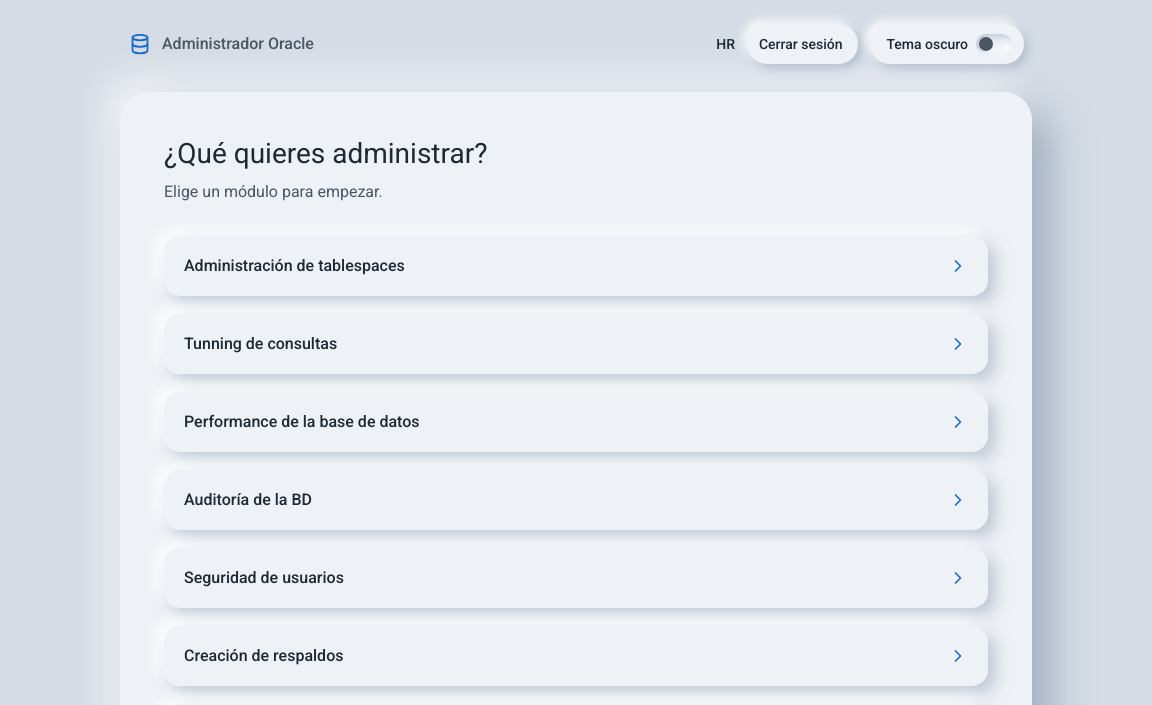
con la sesión ya iniciada al abrir › las pantallas de respaldo usan el token de la sesión
Click the button "Creación de respaldos".
click(264, 656)  # box [164,626,988,686]
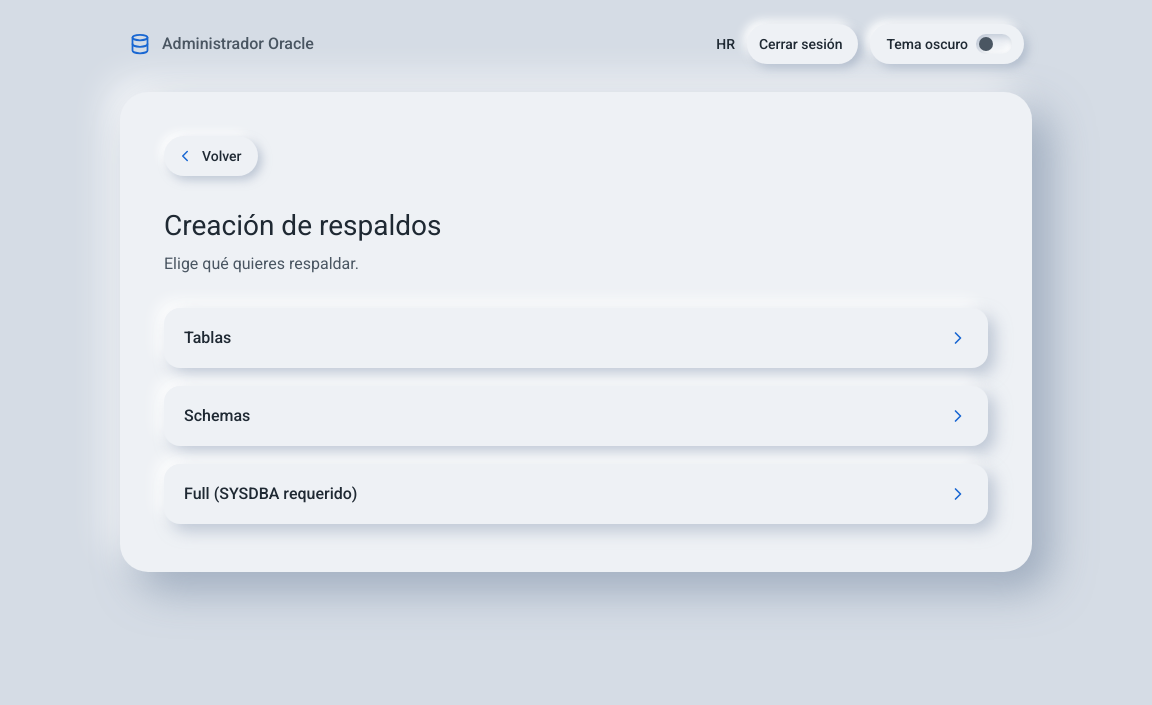
Click the button "Tablas".
click(208, 338)  # box [164,308,988,368]
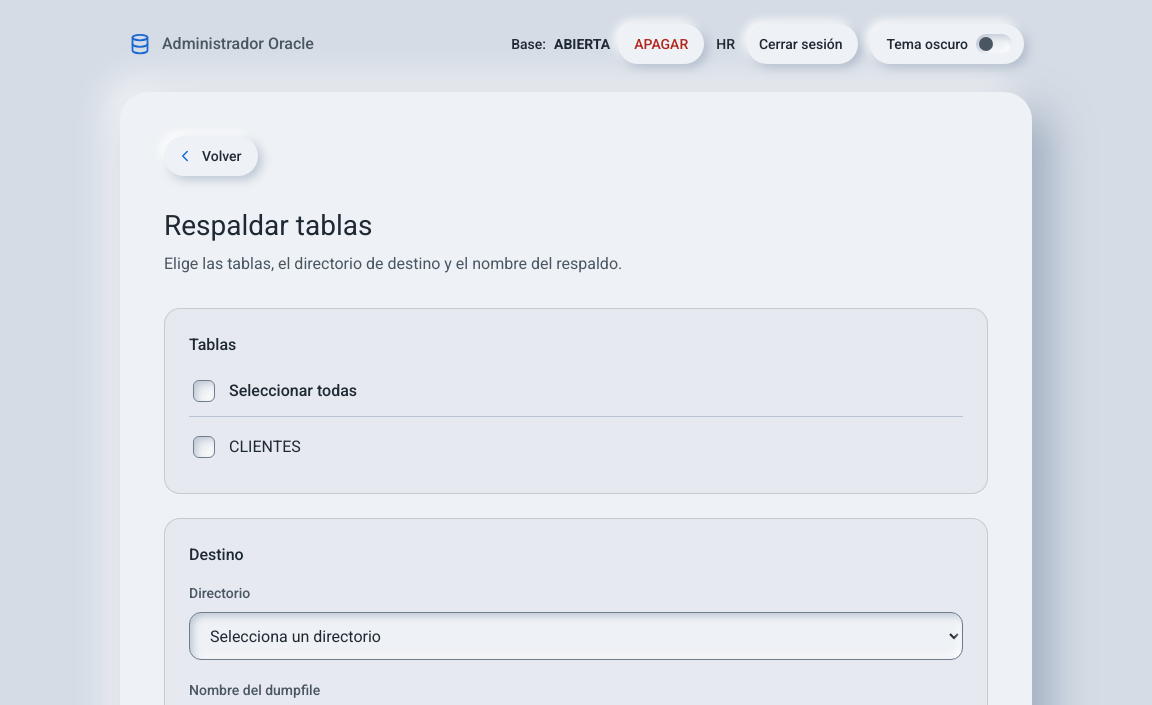
Result: the checkbox labelled "CLIENTES" is shown at [193,436,215,458]
